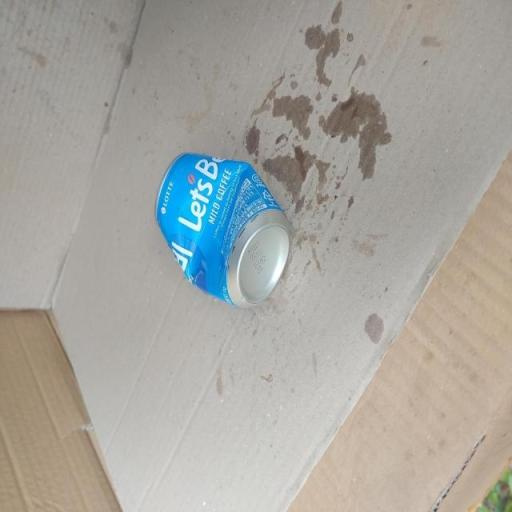metal: (143, 141, 299, 324)
